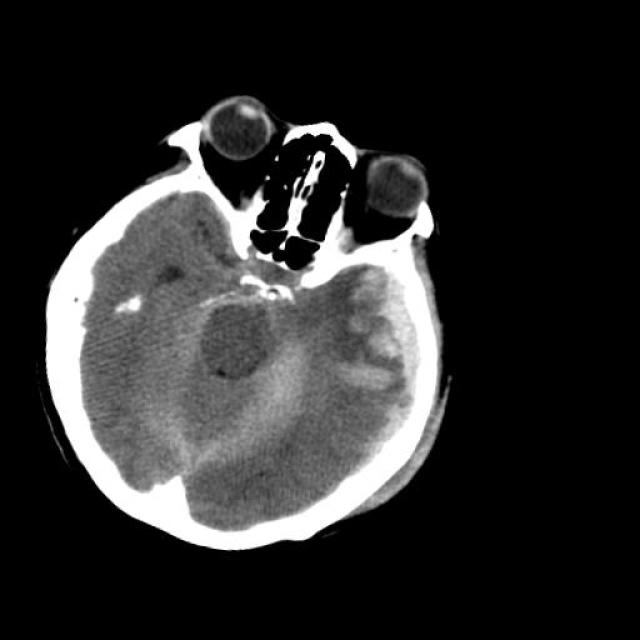Intraparenchymal: (195, 356, 325, 493), (333, 344, 401, 412)
Subdural: (367, 268, 462, 473)
